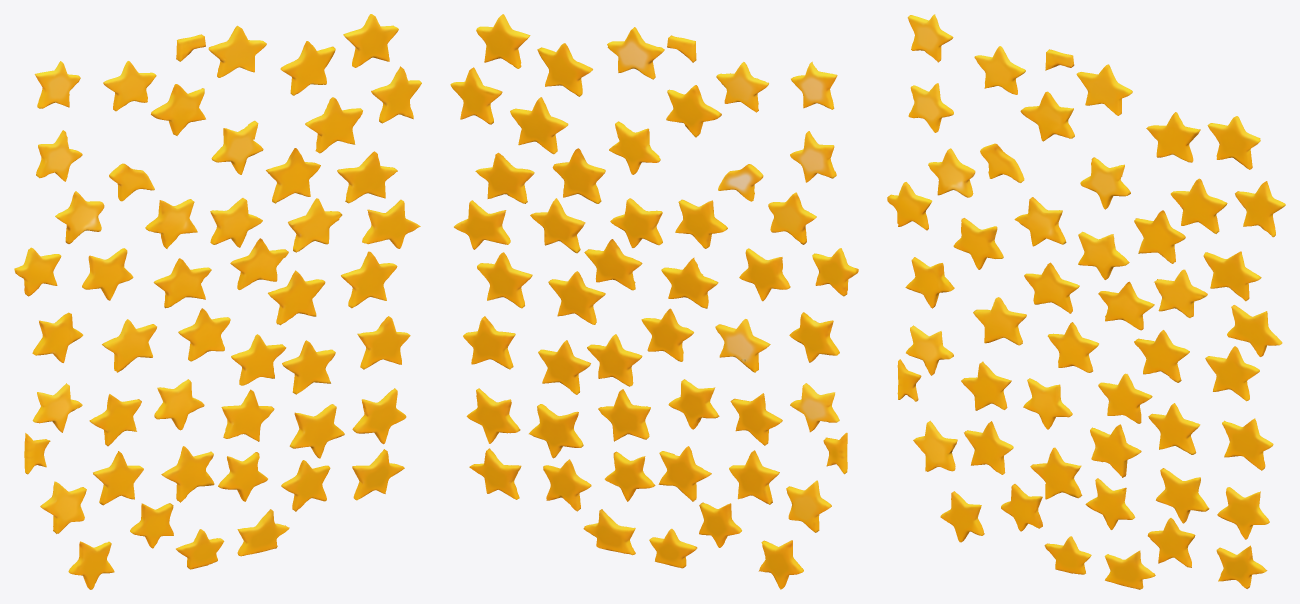
File: 星棚顶 (3).fbx
The picture shows the model from 3 angles, left to right: view 1: azimuth 30°, elevation 25°; view 2: azimuth 150°, elevation 25°; view 3: azimuth 330°, elevation 25°; orthographic projection. The views are drawn at different scales.
Parts seen in each view (by area): view 1: root.0, root.1, root.4, root.5, root.2, root.6, root.10, root.14, root.3, root.26, root.7, root.20 (+34 smaller); view 2: root.0, root.1, root.5, root.3, root.4, root.2, root.6, root.14, root.10, root.7, root.26, root.20 (+34 smaller); view 3: root.0, root.1, root.5, root.2, root.4, root.6, root.10, root.7, root.3, root.26, root.14, root.25 (+34 smaller).
Boxes of the visible parts, <box> form: root.0: <box>176,509,289,569</box>; root.1: <box>305,97,362,153</box>; root.4: <box>268,270,325,325</box>; root.5: <box>341,251,397,308</box>; root.2: <box>337,151,397,203</box>; root.6: <box>289,404,344,458</box>; root.10: <box>343,14,398,67</box>; root.14: <box>280,41,335,95</box>; root.3: <box>266,148,320,203</box>; root.26: <box>208,25,266,77</box>; root.7: <box>357,316,410,369</box>; root.20: <box>230,238,288,289</box>; root.0: <box>583,509,697,568</box>; root.1: <box>510,97,568,154</box>; root.5: <box>477,252,532,308</box>; root.3: <box>552,148,605,203</box>; root.4: <box>548,271,605,324</box>; root.2: <box>475,152,534,203</box>; root.6: <box>529,404,583,458</box>; root.14: <box>537,43,592,96</box>; root.10: <box>476,14,530,68</box>; root.7: <box>463,316,515,369</box>; root.26: <box>607,27,664,79</box>; root.20: <box>584,239,642,290</box>; root.0: <box>1044,536,1155,589</box>; root.1: <box>1170,178,1227,233</box>; root.5: <box>1205,346,1259,401</box>; root.2: <box>1203,251,1261,301</box>; root.4: <box>1134,330,1189,382</box>; root.6: <box>1156,468,1209,523</box>; root.10: <box>1207,116,1260,169</box>; root.7: <box>1222,418,1273,470</box>; root.3: <box>1134,210,1185,263</box>; root.26: <box>1076,64,1132,115</box>; root.14: <box>1146,112,1200,162</box>; root.25: <box>973,297,1026,345</box>.
Size of the model in its own units: 143 by 182 by 3.26.
